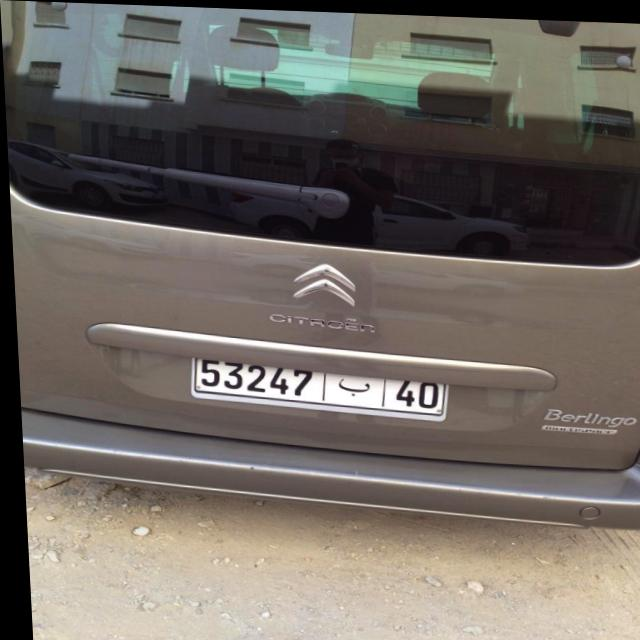License-Plate: (187, 358, 444, 417)
